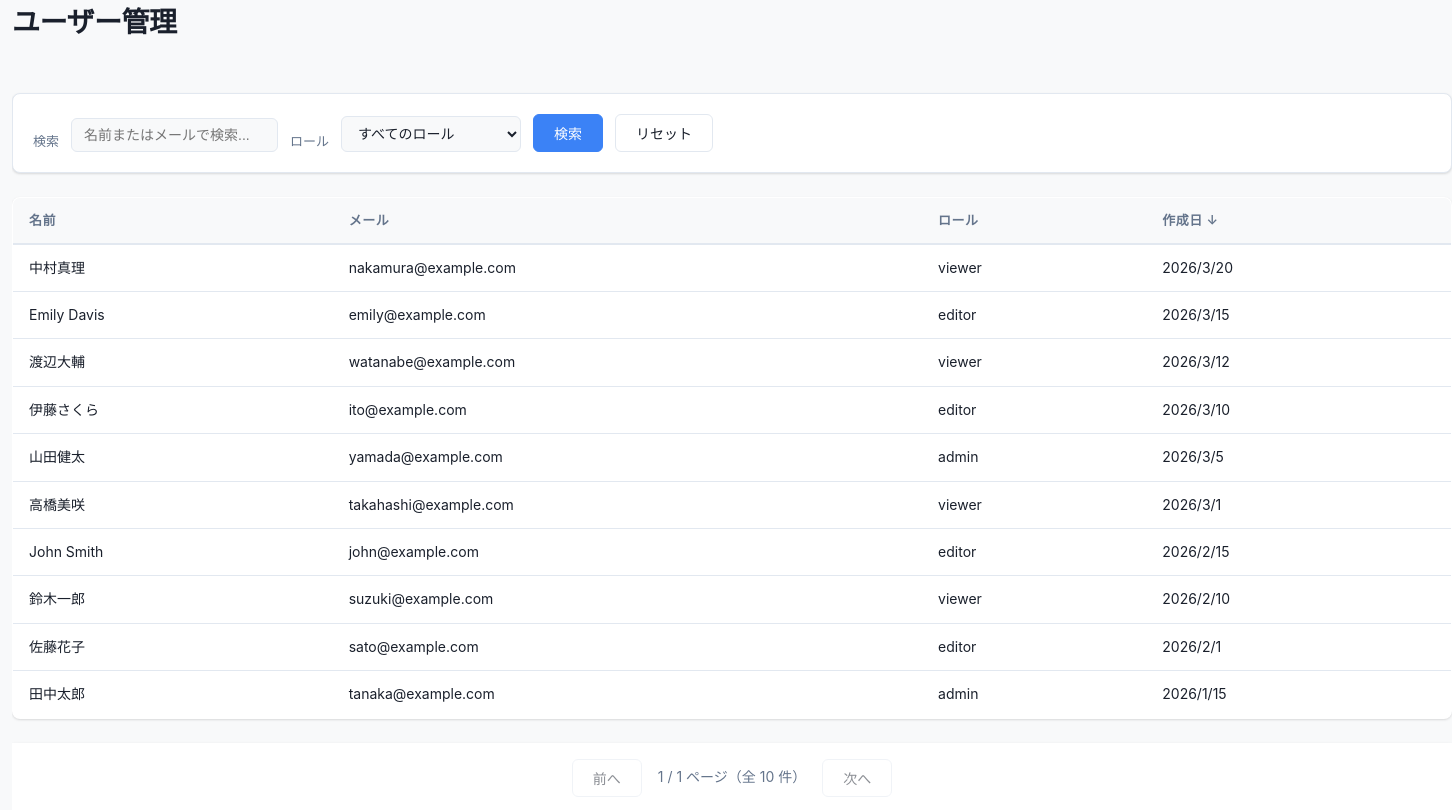
Test case: UsersPage › 検索結果が0件の場合に空メッセージが表示される
The image size is (1452, 810).
expect the text "田中太郎" is shown: met, box [12,671,333,718]
Type "存在しないユーザー名" into the field labelled "検索" at (174, 135), box [71,118,278,152]
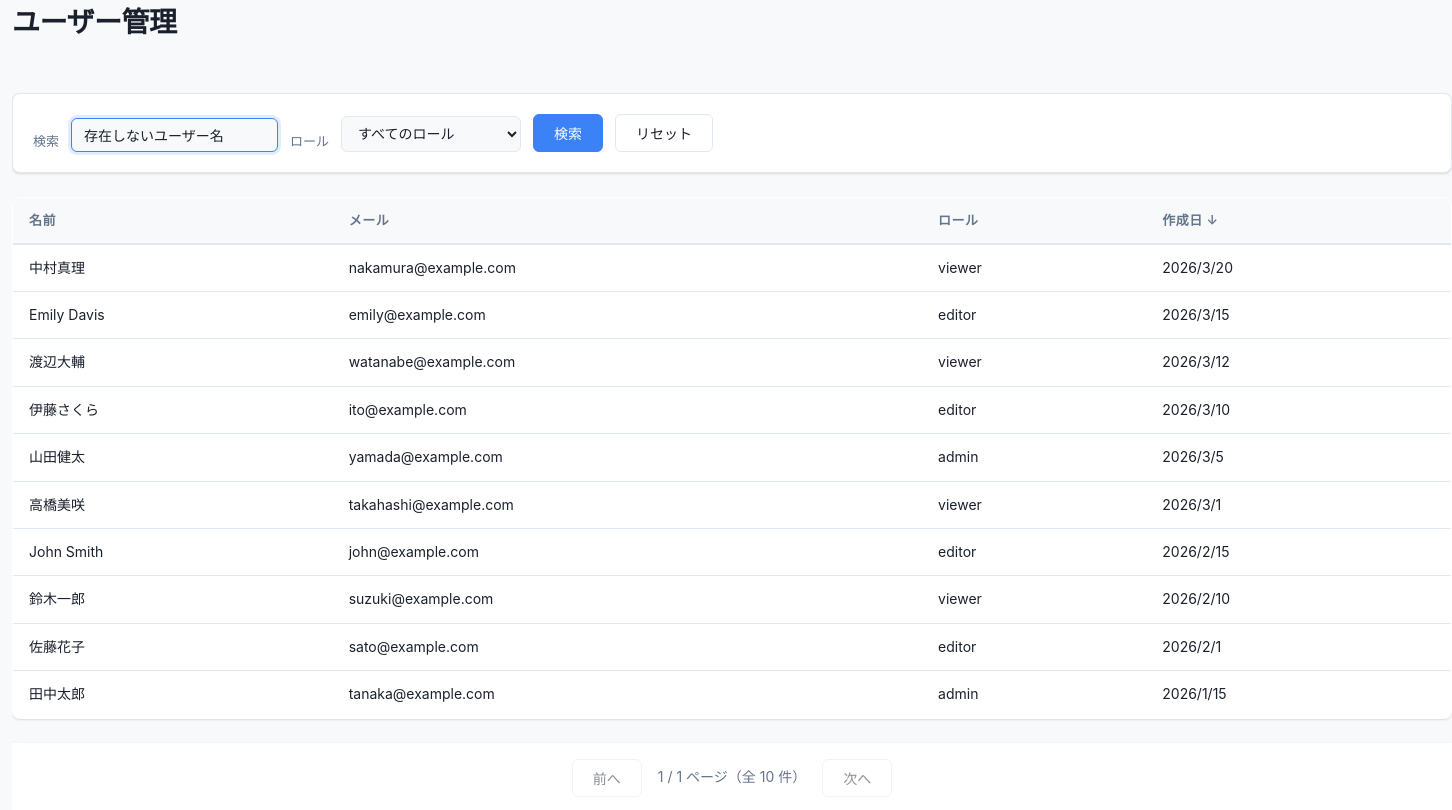
Click the button "検索" at (568, 133), box [533,114,603,152]
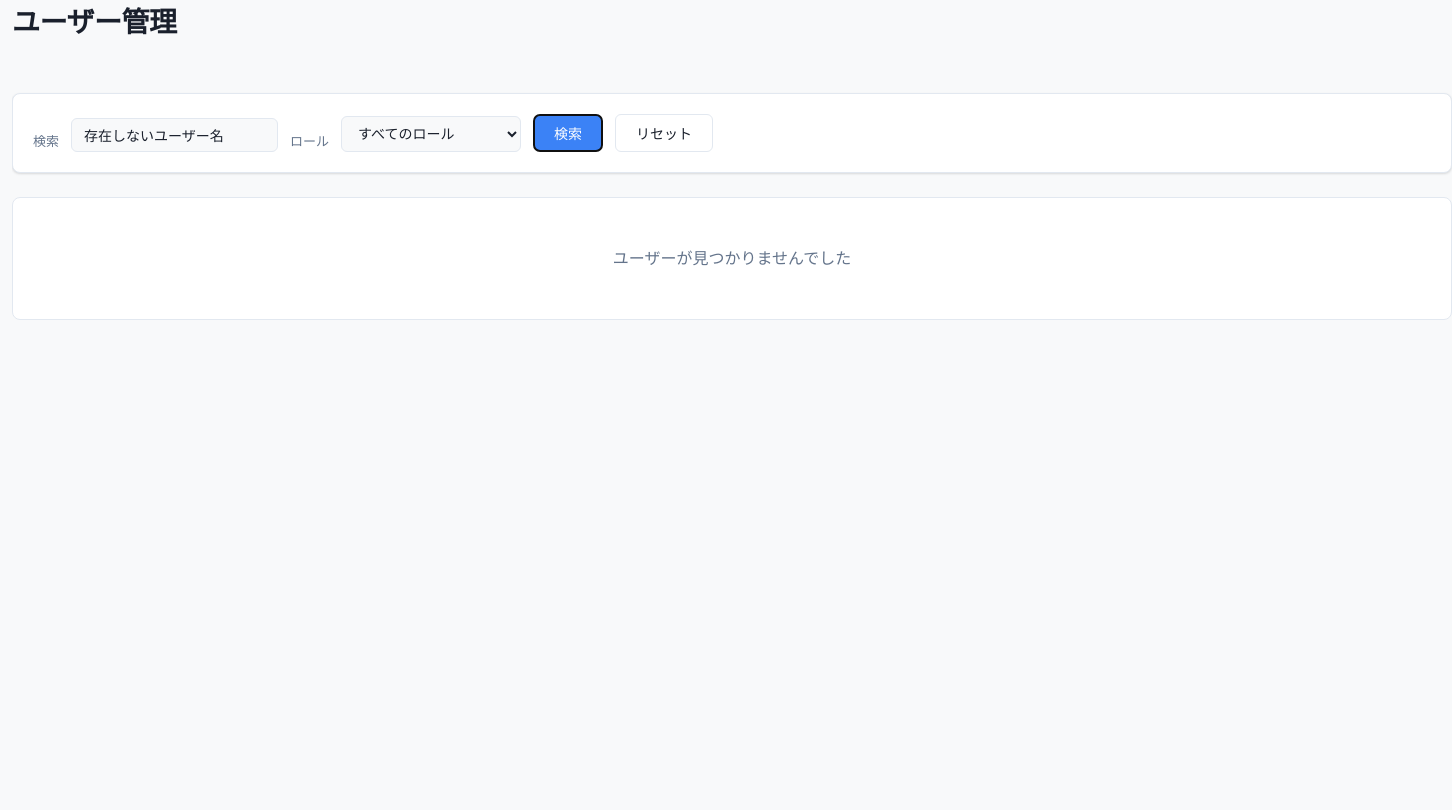
expect the text "ユーザーが見つかりませんでした" is shown: met, box [12,197,1451,320]
